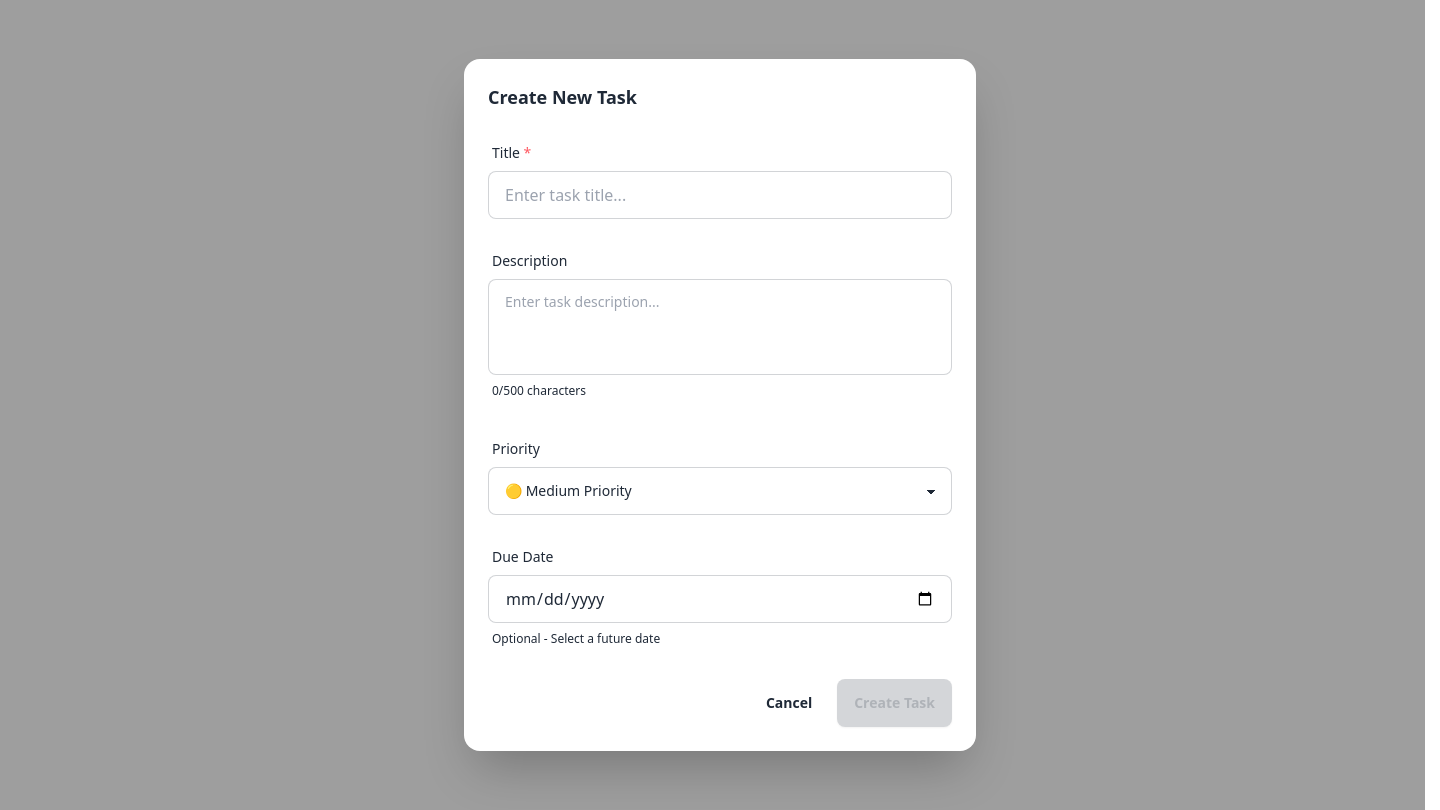
Test: TaskCreationModal › has required title field with validation
Expected: the heading "Create New Task" is shown, x1=488 y1=85 x2=637 y2=109
Expected: the button "Create Task" is disabled, x1=837 y1=679 x2=952 y2=727
# Type title and check submit button becomes enabled
Type "Test Task" into the field labelled "Title *" at (720, 195), box x1=488 y1=171 x2=952 y2=219
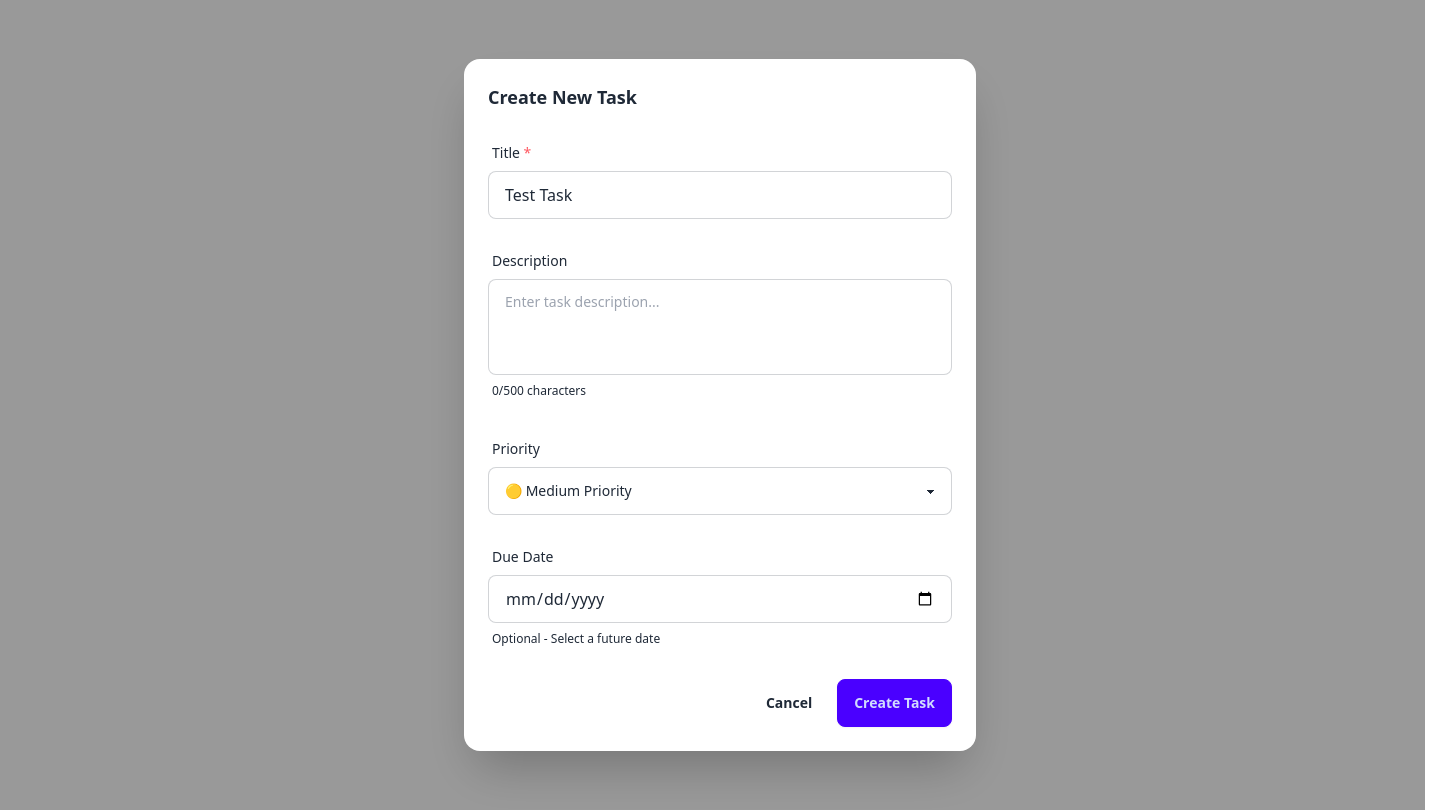
Expected: the button "Create Task" is enabled, x1=837 y1=679 x2=952 y2=727
